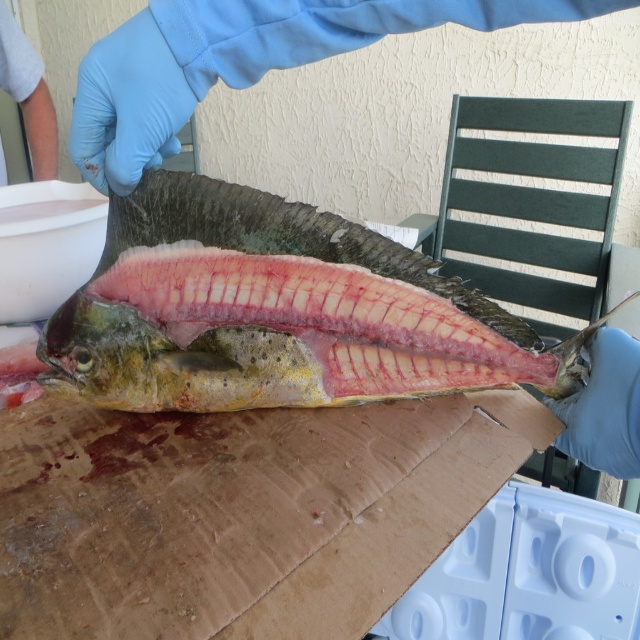Fish: (34, 164, 640, 411)
